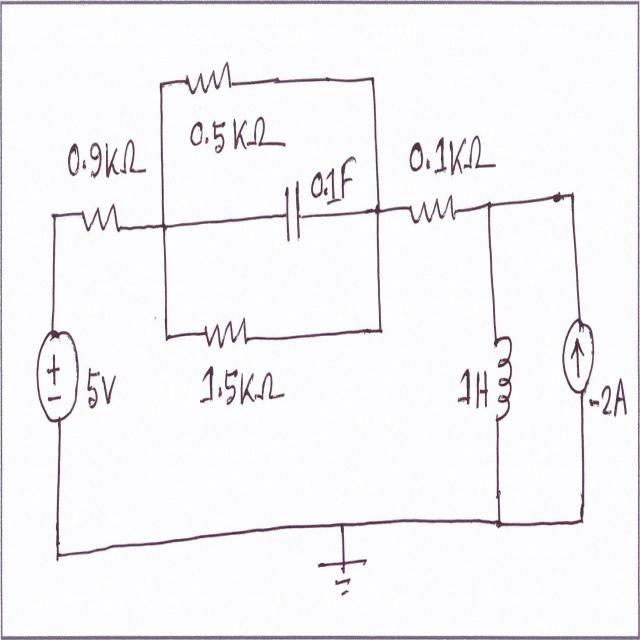capacitor: (282, 176, 305, 248)
current_source: (559, 301, 598, 399)
ground: (314, 552, 374, 603)
inductor: (491, 320, 513, 443)
resistor: (399, 190, 464, 238), (181, 56, 236, 106), (73, 195, 125, 242), (198, 312, 251, 356)
voltage_source: (32, 324, 80, 429)
